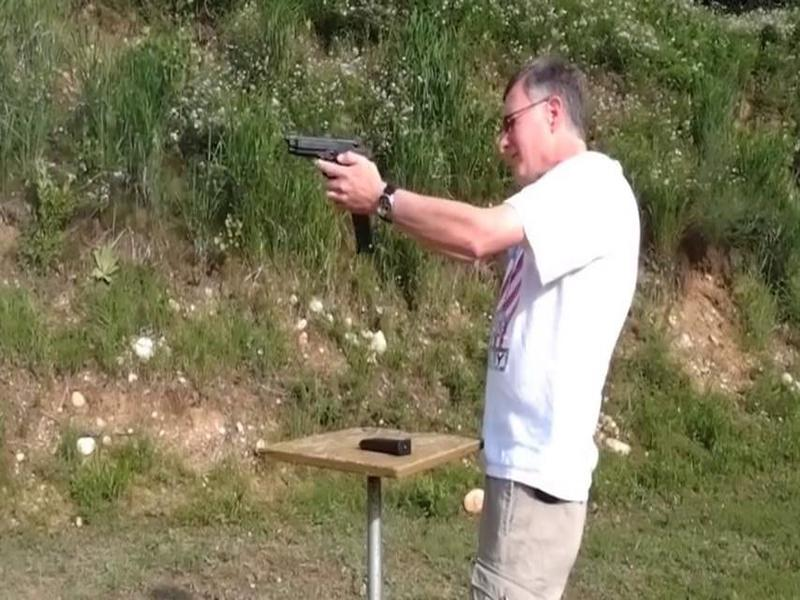Pistola: (272, 113, 379, 219)
